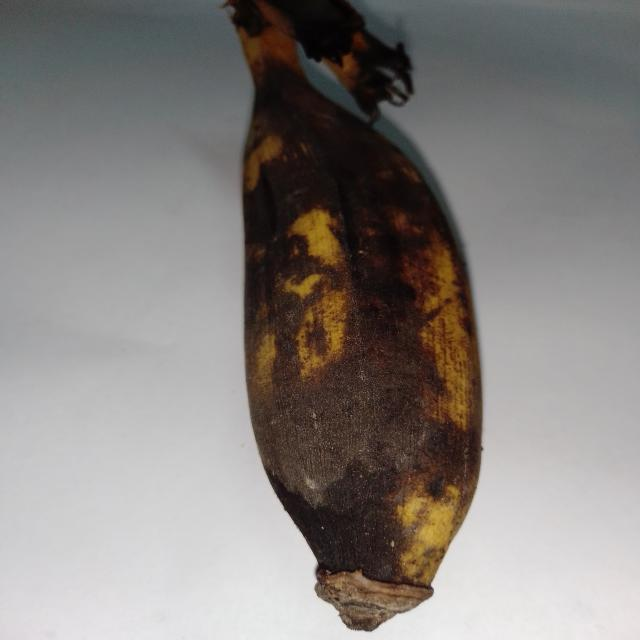banana: (233, 0, 481, 630)
